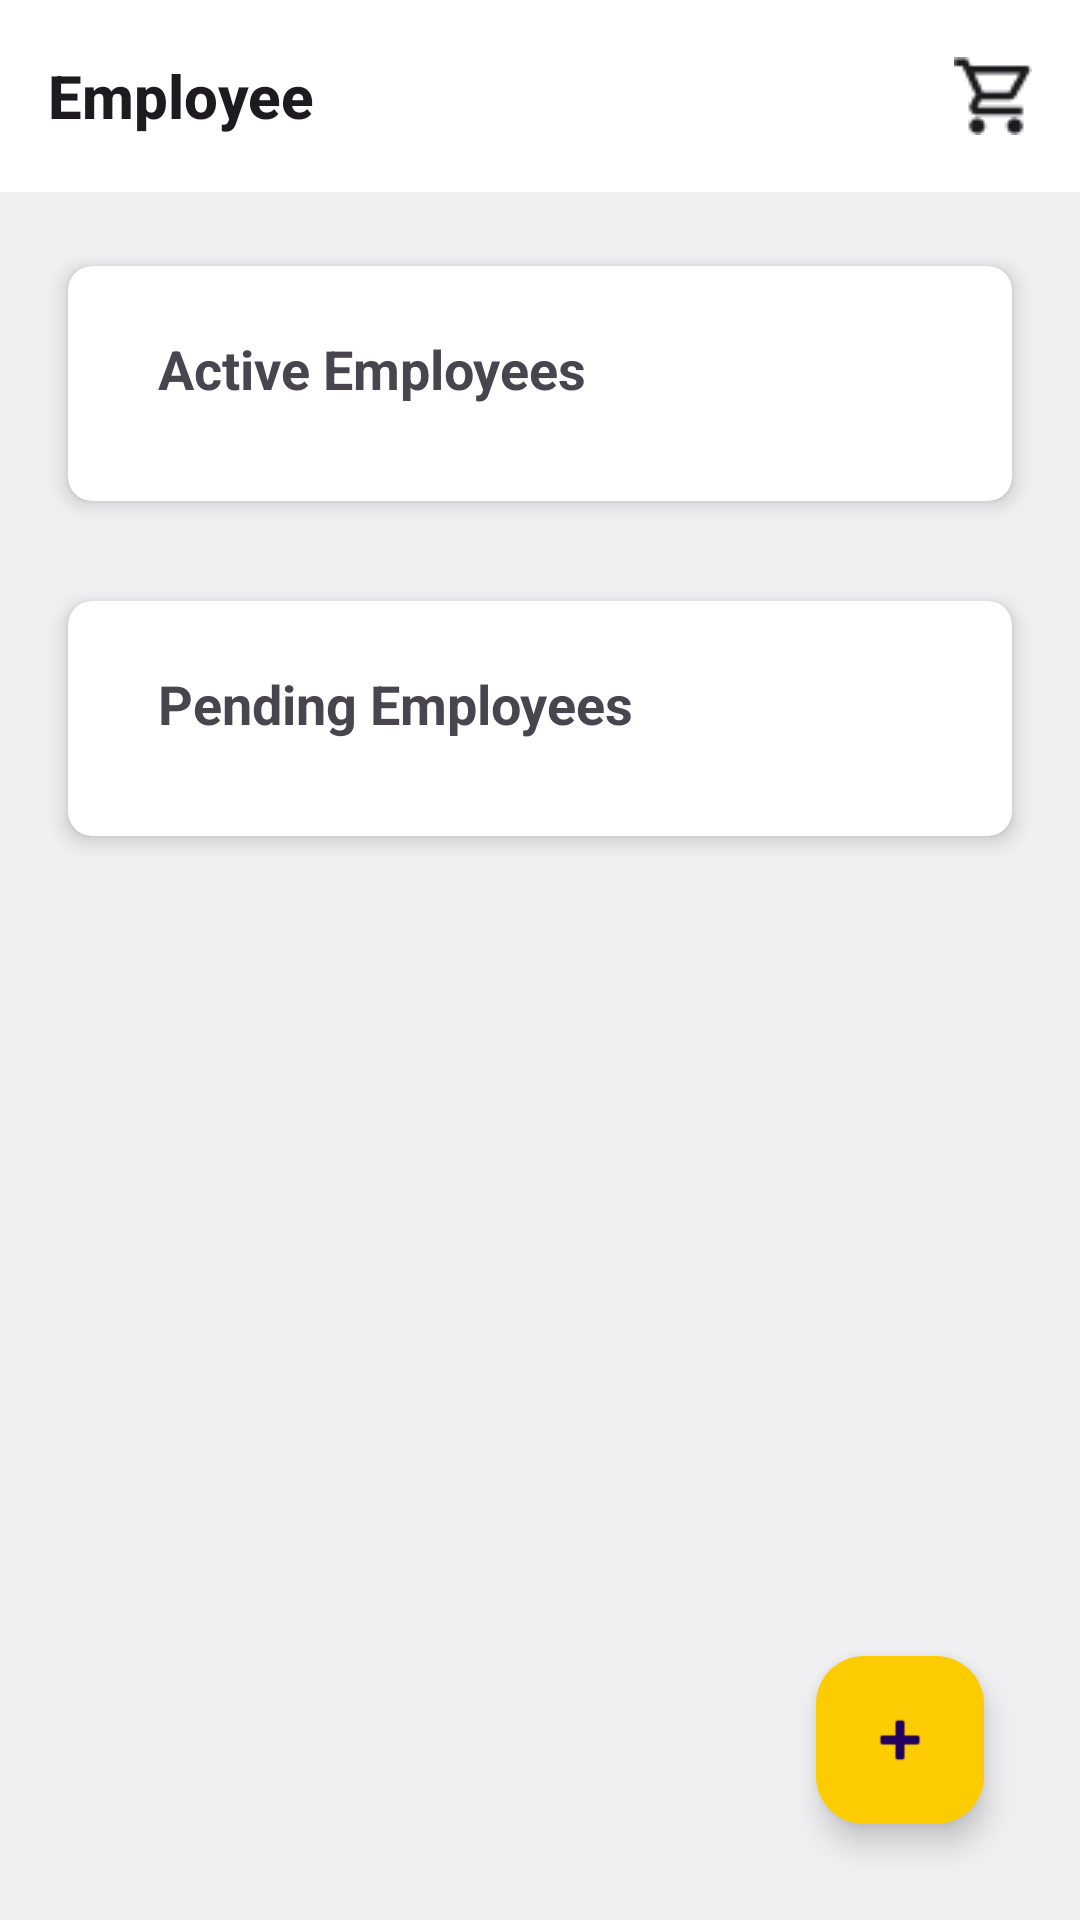

Screen size 1080 x 1920. Icon name, then its center in pixels as point (x, y):
Add Categories: point (900, 1740)
shopping cart: point (993, 96)
